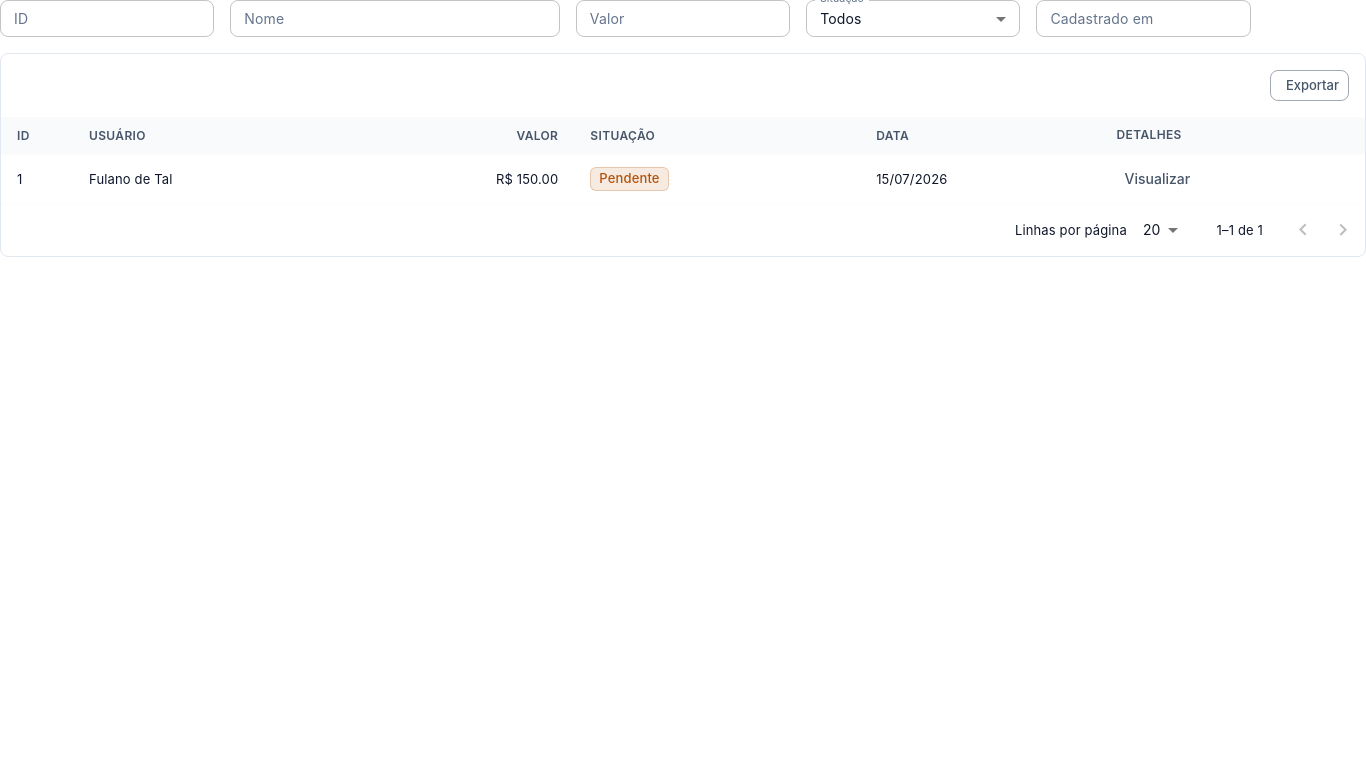
Scenario: WithdrawalsTable › sem withdrawals.approve, uma solicitação pendente mostra "Visualizar" e o diálogo não permite responder
What coordinates should you click on to do the following:
click the button "Visualizar"
I would click on:
 (1157, 179)
Its box is 1116,161 -> 1198,197.
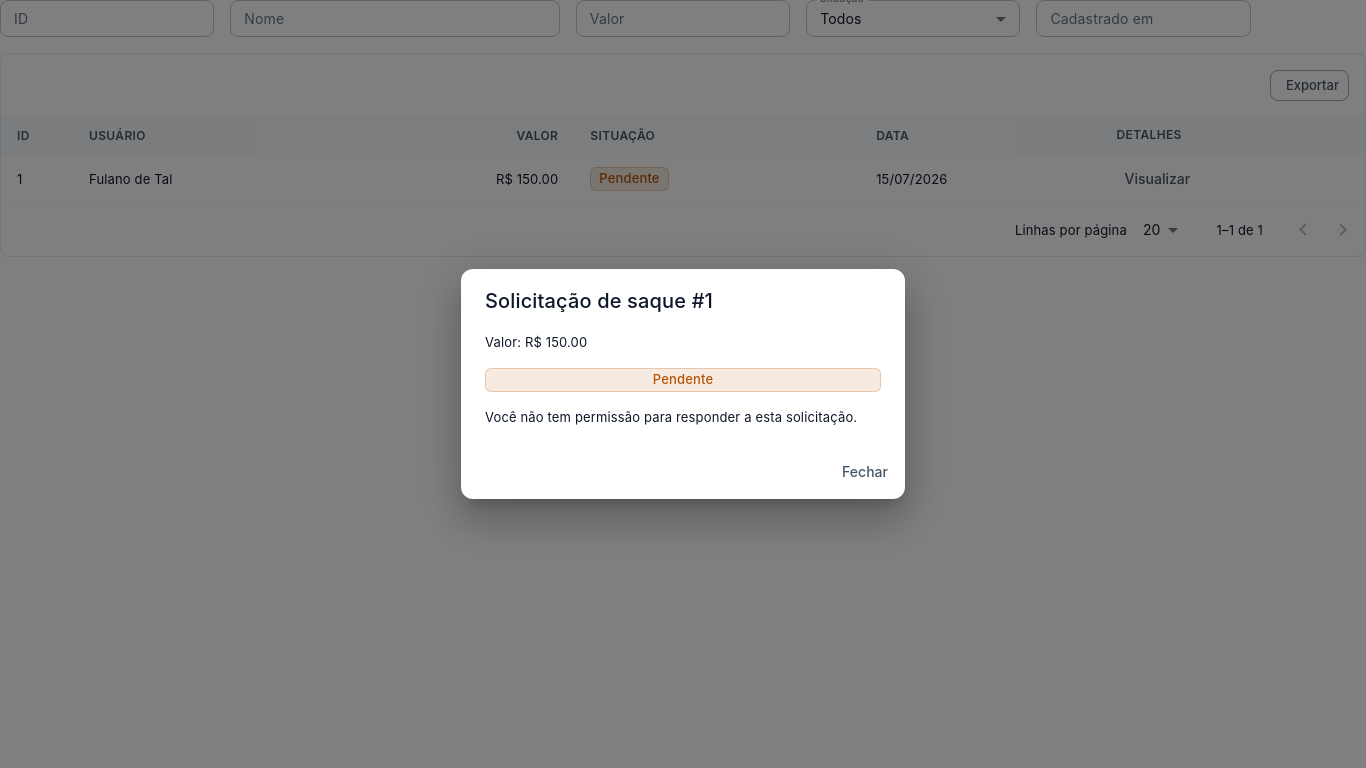
Expected: the text "Você não tem permissão para responder a esta solicitação." is shown, 485,408 -> 881,426
Expected: the button "Fechar" is shown, 833,454 -> 897,491
